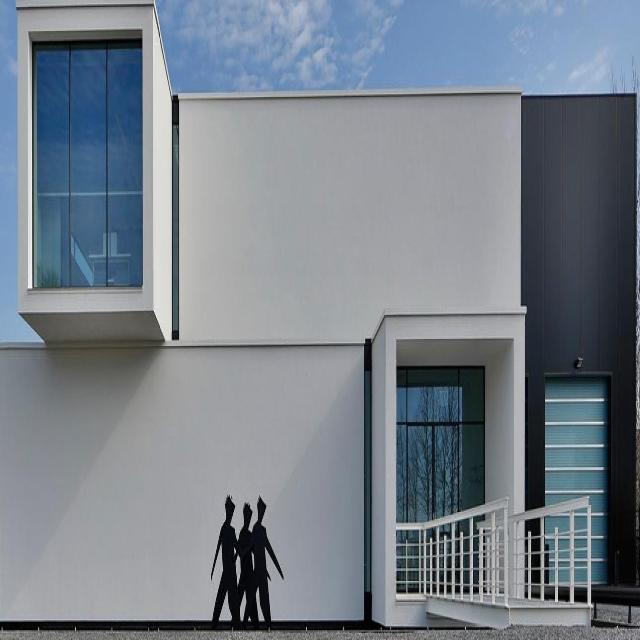Railing: (396, 500, 590, 608)
wall: (0, 0, 640, 633)
windows: (32, 45, 142, 285), (397, 366, 484, 521)
